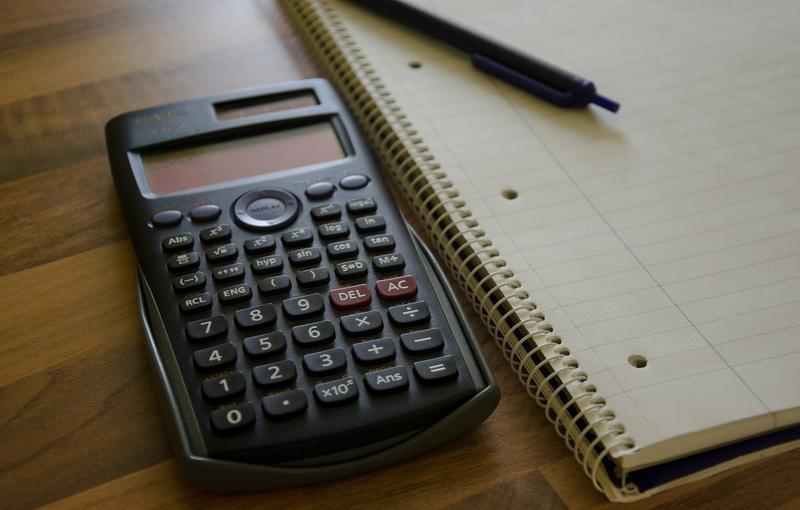Calculator: (105, 77, 506, 482)
